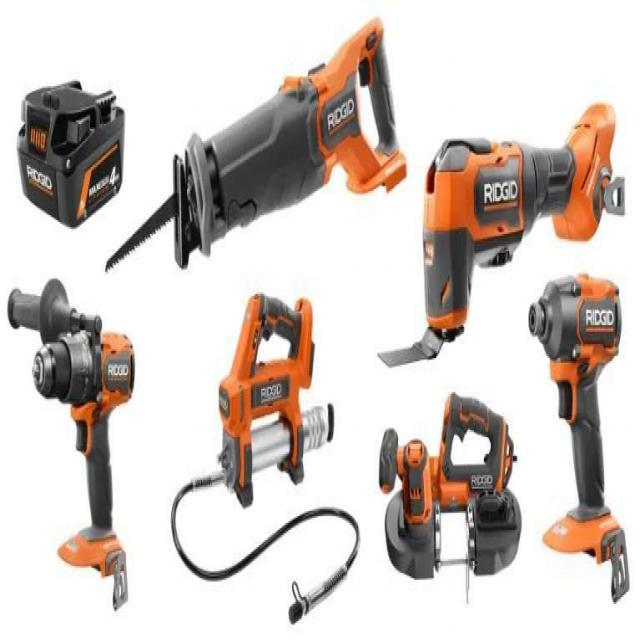drill: (104, 16, 408, 276), (378, 102, 628, 369), (7, 277, 136, 614), (528, 273, 632, 606), (191, 290, 335, 510), (378, 392, 523, 606)
